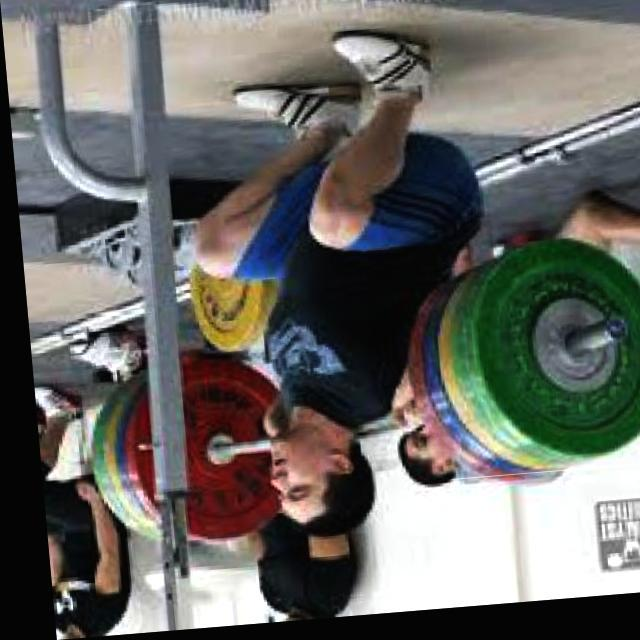barbell: (426, 236, 640, 488)
